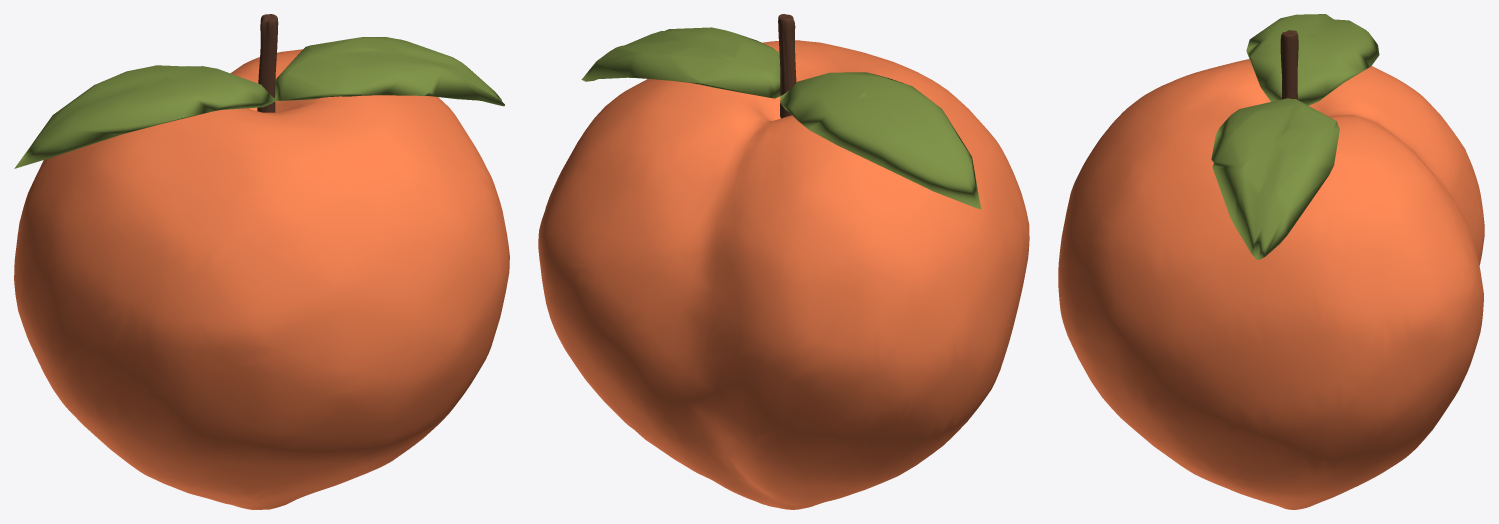
Rendered from peachycompressed.gltf.
The picture shows the model from 3 angles, left to right: view 1: azimuth 30°, elevation 25°; view 2: azimuth 150°, elevation 25°; view 3: azimuth 270°, elevation 25°; orthographic projection. The views are drawn at different scales.
Visible parts, largest first — view 1: Peach, Leaves, stem; view 2: Peach, Leaves, stem; view 3: Peach, Leaves, stem.
Part boxes in pixels (x1,y1,x2,y2): Peach: [14, 49, 509, 509]; Leaves: [14, 37, 504, 168]; stem: [257, 14, 278, 112]; Peach: [538, 40, 1029, 509]; Leaves: [581, 27, 980, 209]; stem: [778, 14, 796, 118]; Peach: [1058, 59, 1484, 509]; Leaves: [1211, 14, 1379, 259]; stem: [1280, 30, 1298, 99].
Bounding box in the file's own units: 219 × 231 × 189.
